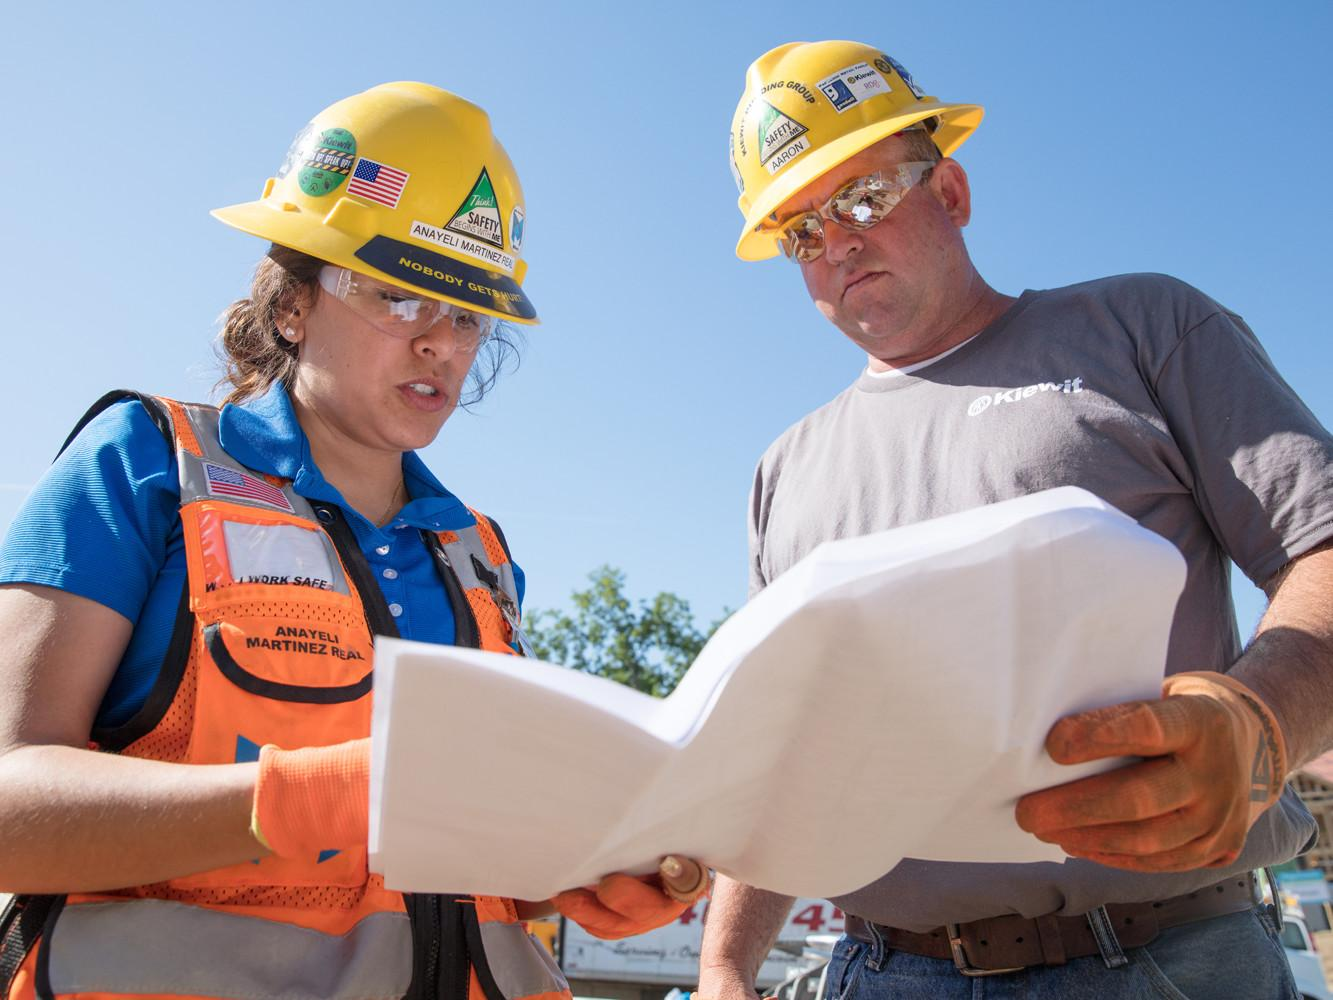helmet: (212, 80, 548, 321), (720, 40, 977, 265)
